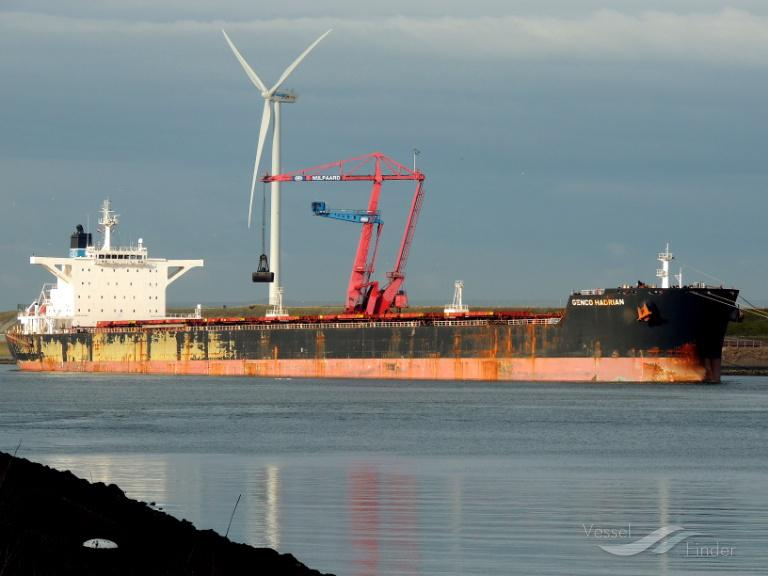OCR: (570, 292, 628, 312)
